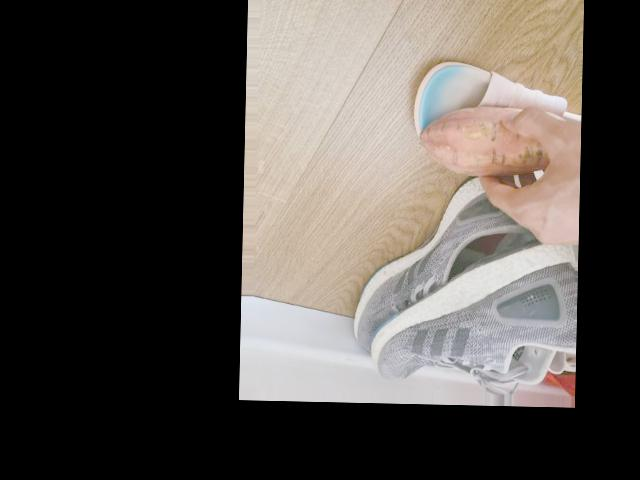sweet_potato: (416, 105, 548, 175)
